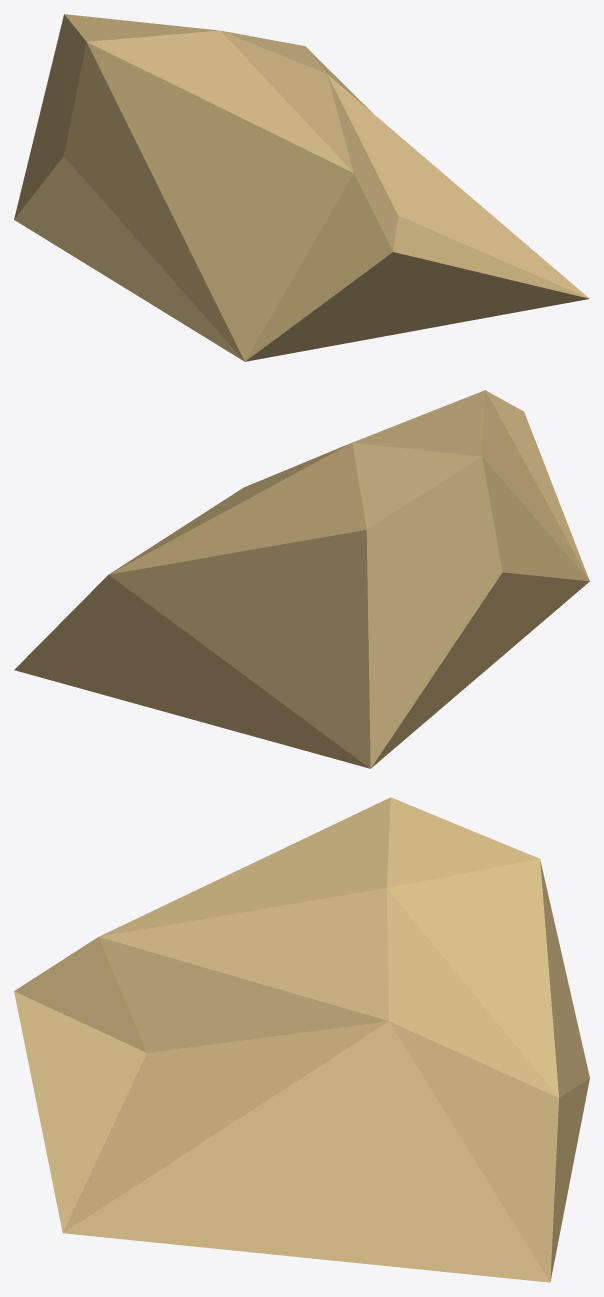
The model's file is Rock_5_low.fbx.
3 views of the same model, one above another, from view 1: azimuth 30°, elevation 25°; view 2: azimuth 150°, elevation 25°; view 3: azimuth 270°, elevation 25° (orthographic). The views are drawn at different scales.
Visible parts, largest first — view 1: Stone_5_low; view 2: Stone_5_low; view 3: Stone_5_low.
Boxes of the visible parts, x1,y1,x2,y2 form: Stone_5_low: (14,14,589,361); Stone_5_low: (14,390,589,768); Stone_5_low: (14,797,589,1282).
Size of the model in its own units: 2.27 by 1.34 by 2.52.
